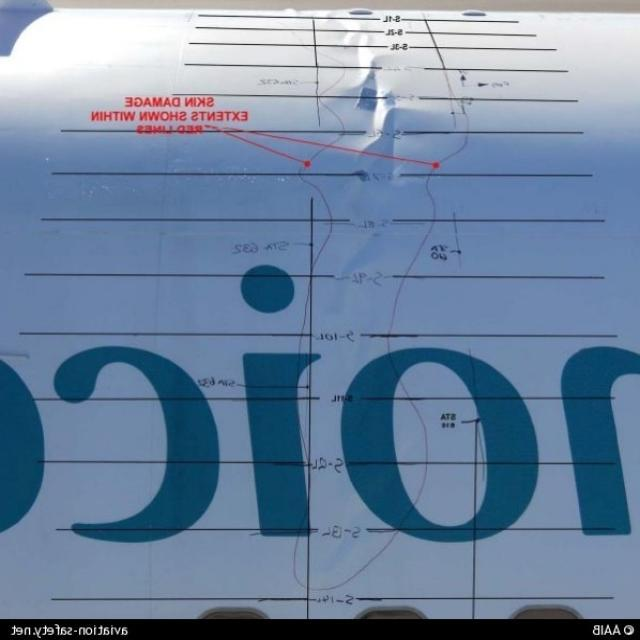dent: (307, 12, 445, 586)
